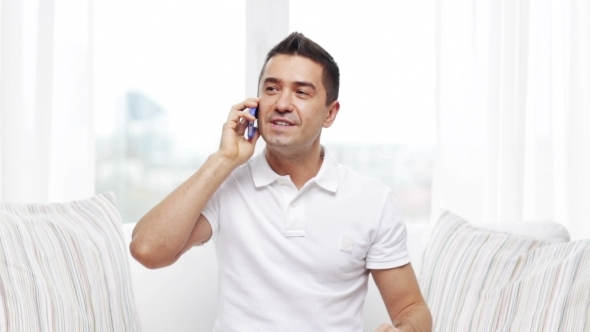phone: (224, 92, 265, 151)
talk: (218, 73, 326, 183)
